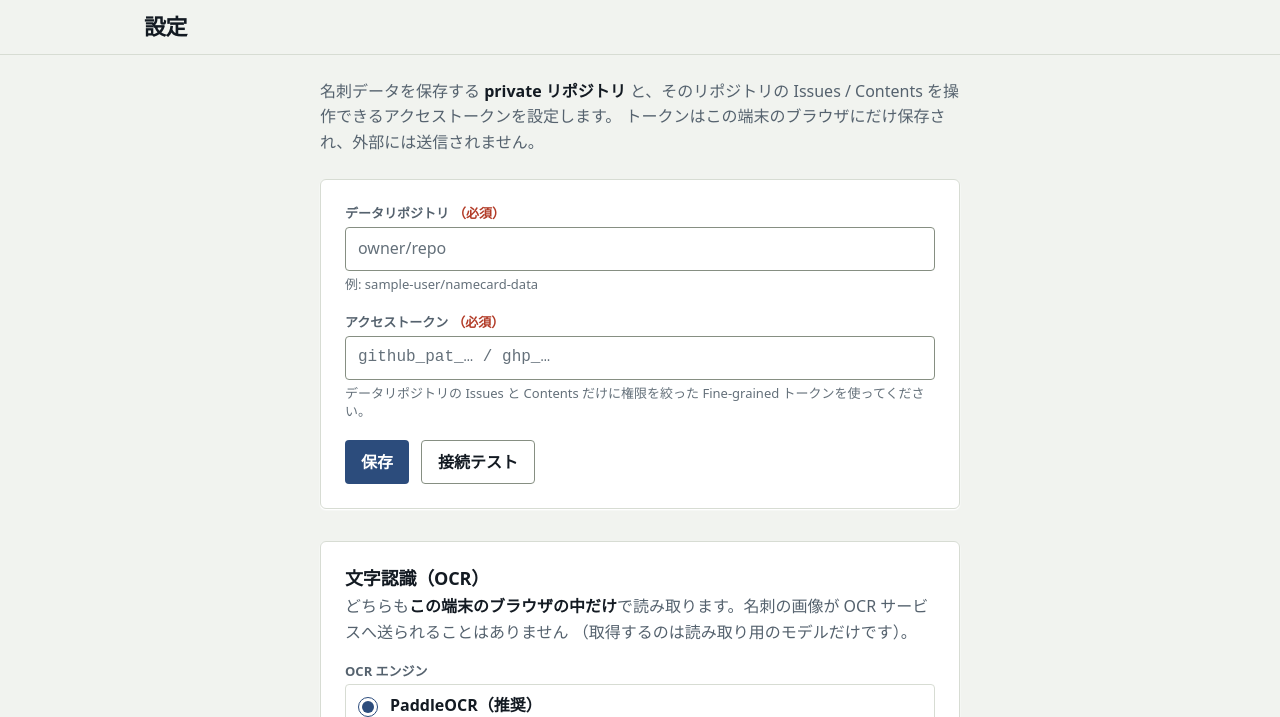
Test: 設定画面 / 入力と保存 › owner/repo 形式でない文字列は保存されず、形式のエラーが出る
In the field labelled "データリポジトリ（必須）": (640, 249) 345,227 -> 935,271, type "not-a-repo"
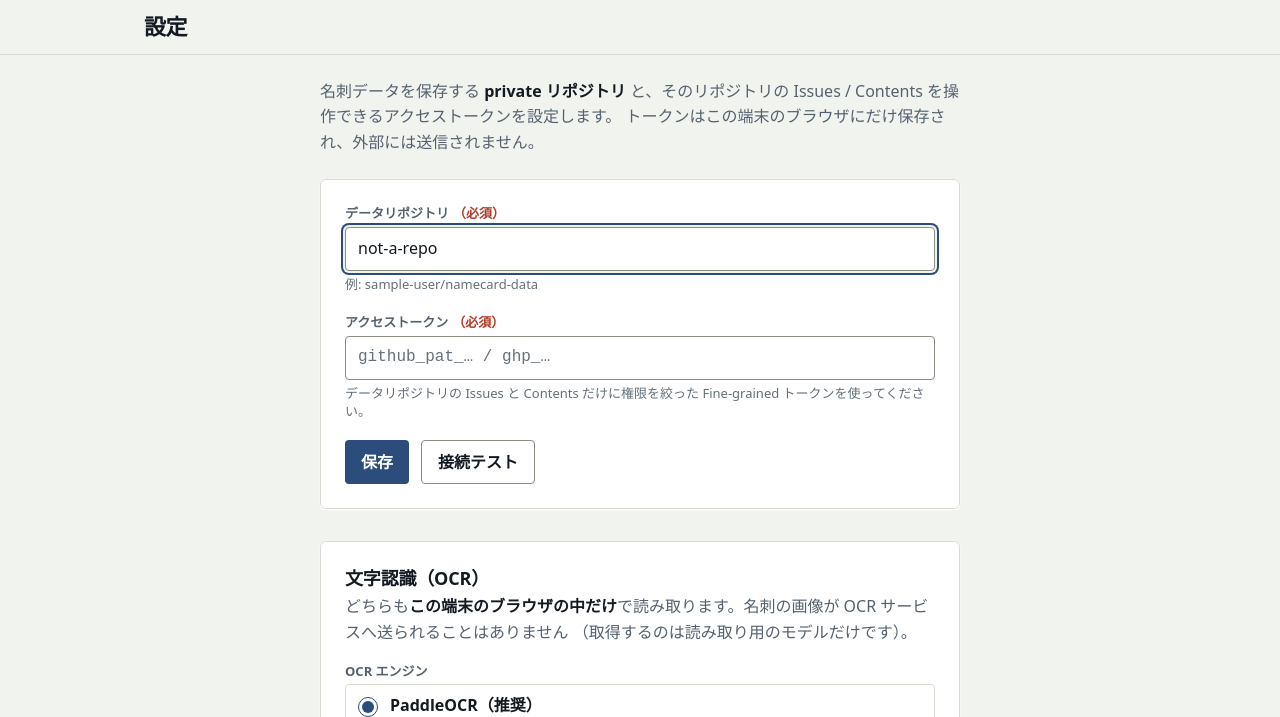
In the password field named "アクセストークン": (640, 358) 345,336 -> 935,380, type "ghp_dummy"
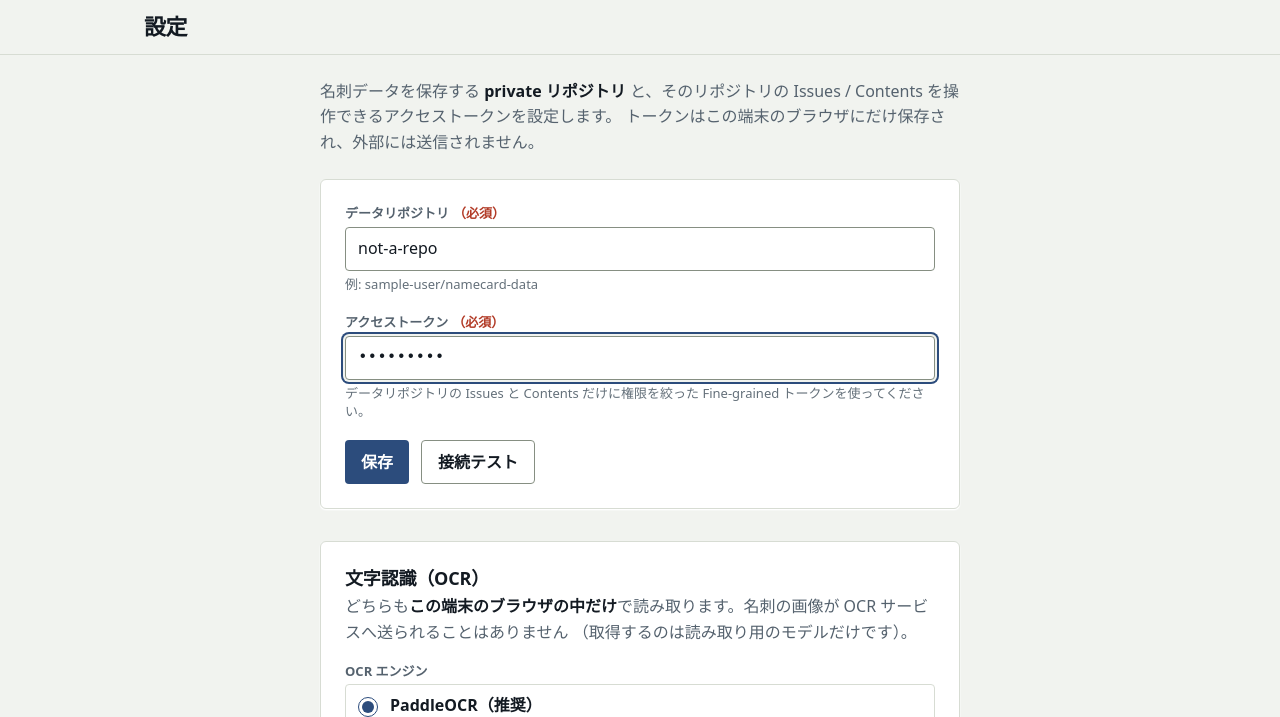
Click the button "保存": (377, 462) 345,440 -> 409,484
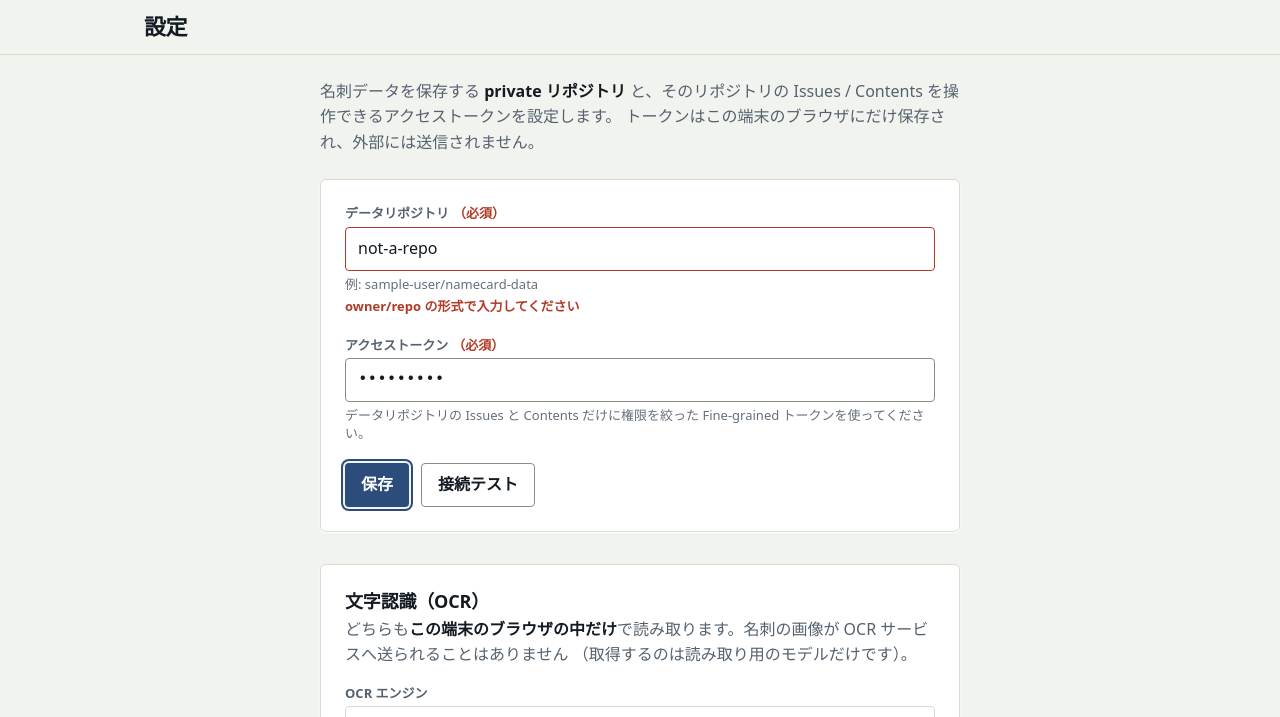
Now the text "owner/repo の形式で入力してください" is shown, box 345,297 -> 580,315
